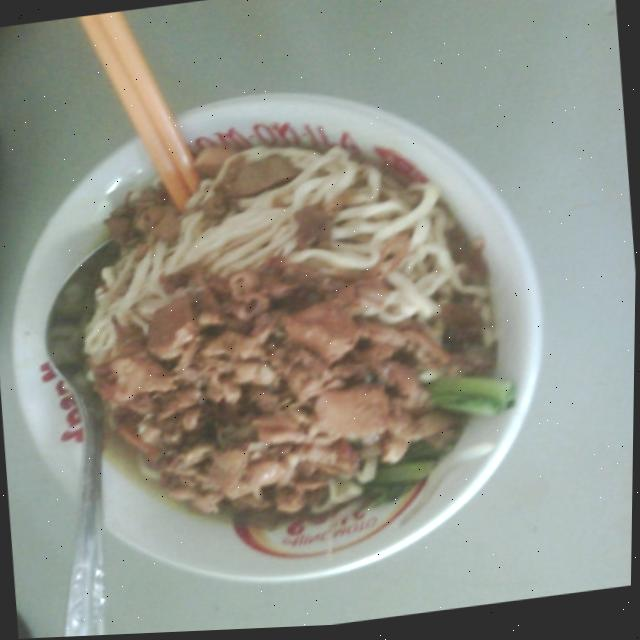面条主食: (0, 47, 578, 622)
